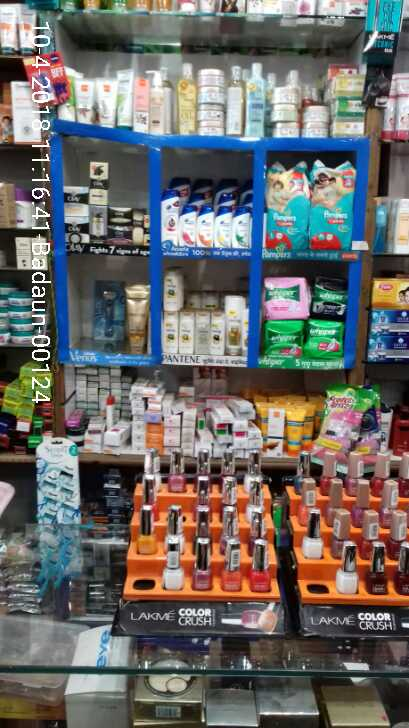venus: (28, 437, 76, 601), (88, 280, 122, 351)
